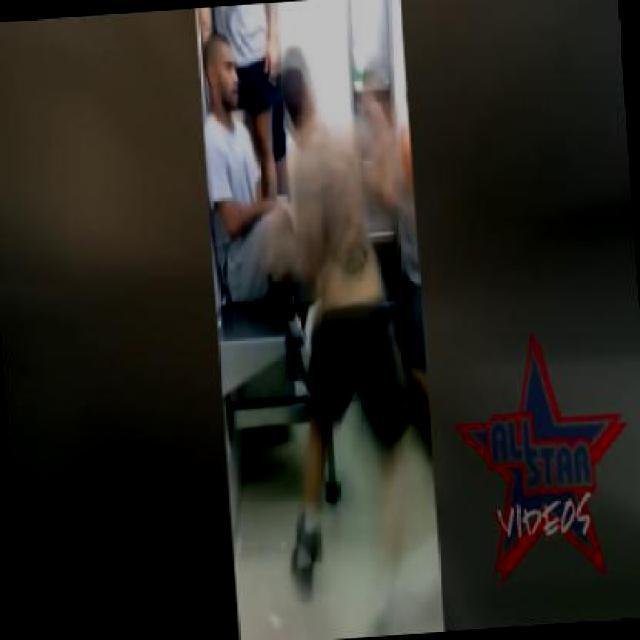fight: (278, 49, 438, 565)
